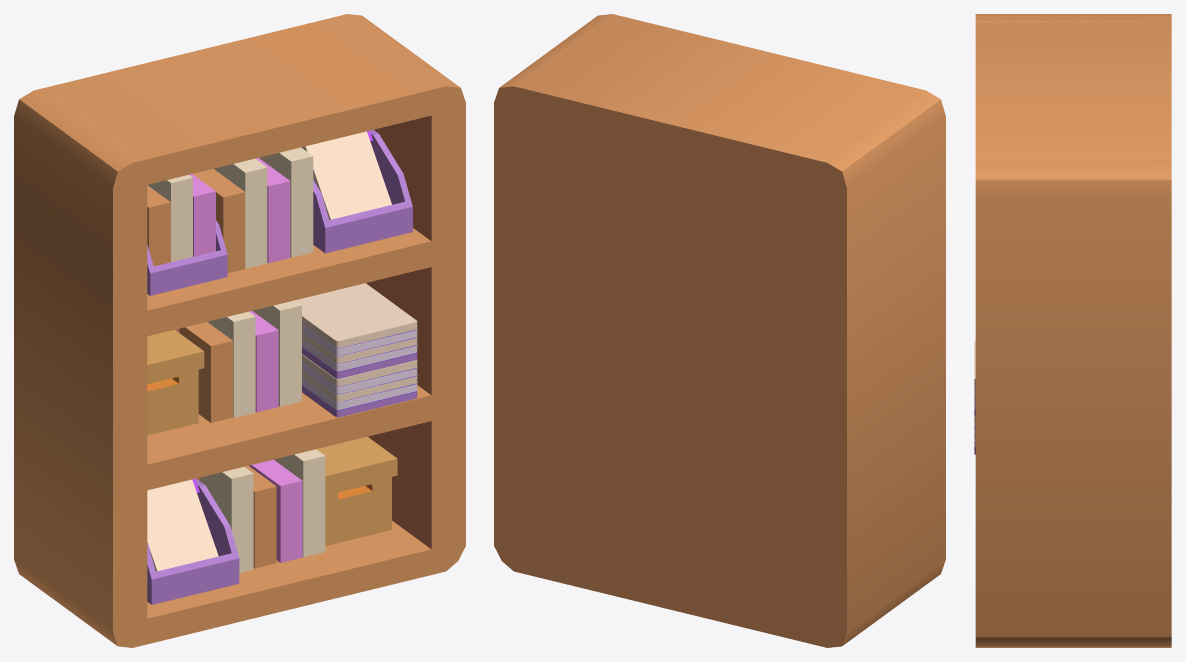
File: Office_Shelf.fbx
3 views of the same model, side by side, from view 1: azimuth 30°, elevation 25°; view 2: azimuth 150°, elevation 25°; view 3: azimuth 270°, elevation 25° (orthographic).
Visible parts, largest first — view 1: Office_Shelf; view 2: Office_Shelf; view 3: Office_Shelf.
Part boxes in pixels (x1,y1,x2,y2): Office_Shelf: (14, 14, 465, 647); Office_Shelf: (494, 14, 945, 647); Office_Shelf: (974, 14, 1171, 647).
Bounding box in the file's own units: 71.93 × 94.5 × 35.12.
